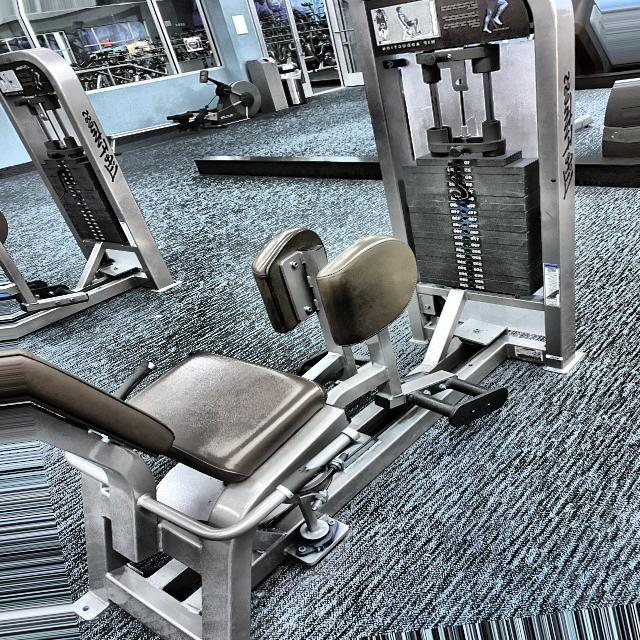hip_adduction_machine: (220, 213, 497, 477), (368, 3, 528, 49), (379, 38, 448, 51)
